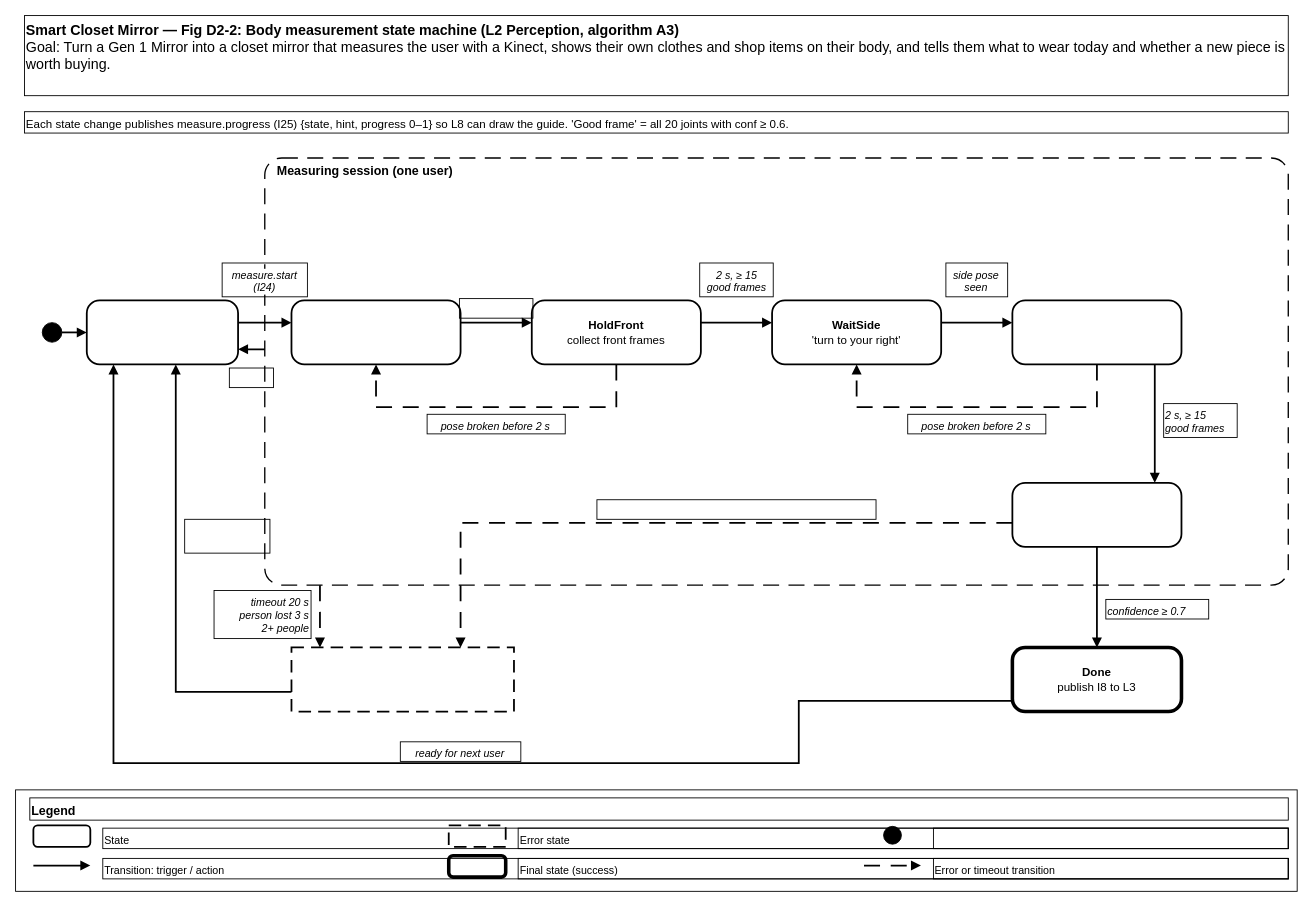
Image size: 1313x907. Some labels were removed from this diagram. Here are the shapes that lost their labels. From the top down, the centre of each, then its label:
At point 496,308: "T-pose seen".
At point 162,332: "Idle".
At point 375,332: "WaitFront 'stand in a T-pose'".
At point 1096,332: "HoldSide collect side frames".
At point 250,377: "cancel".
At point 736,509: "confidence < 0.7 or a value out of human range".
At point 1096,514: "Computing A3 steps 4–7".
At point 227,535: "Retry → measure.start".
At point 402,679: "Failed reason sent on I25".
At point 1110,838: "Start (first state on power-up)".
